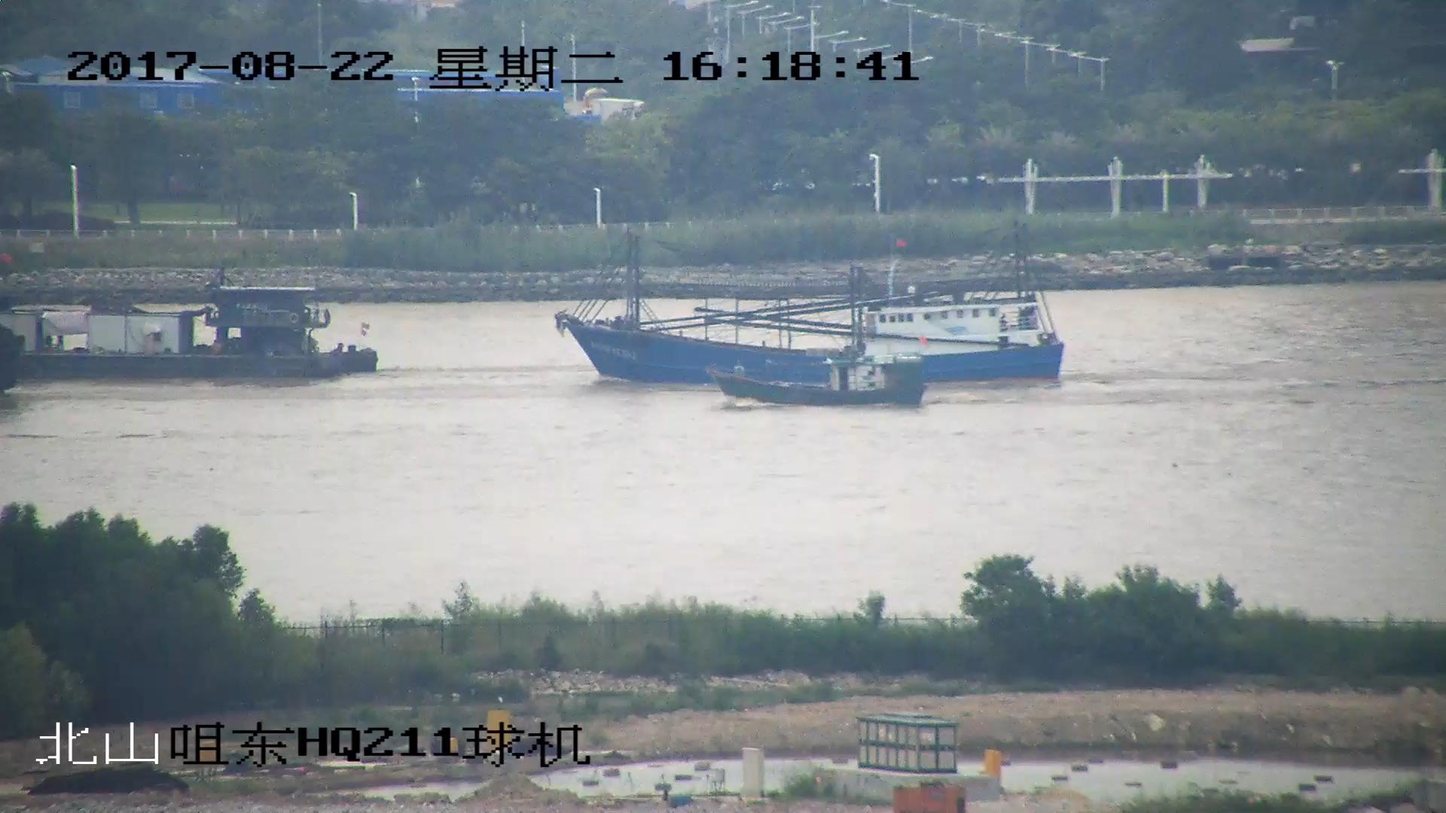bulk cargo carrier: (0, 273, 380, 376)
fishing boat: (550, 223, 1064, 388), (712, 346, 926, 406)
